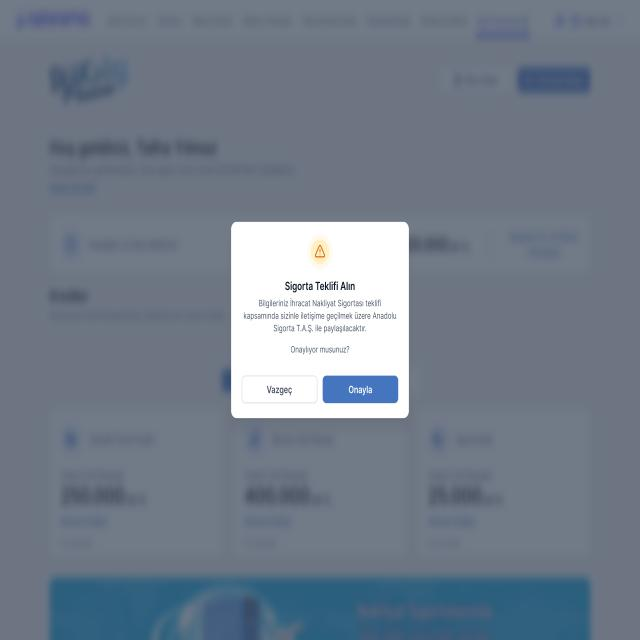QLabel: (241, 309, 400, 322), (245, 297, 398, 310), (267, 322, 374, 334), (280, 279, 358, 291), (286, 344, 353, 354), (265, 384, 294, 396), (347, 384, 374, 396)
VBtn: (241, 375, 318, 404), (323, 376, 399, 403)
VDialog: (231, 221, 408, 418)
VIcon: (307, 235, 331, 270)
